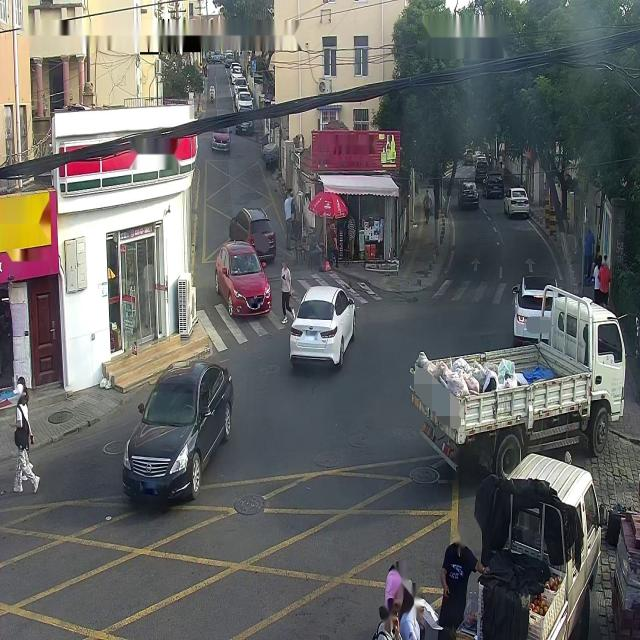car: (408, 284, 626, 478), (453, 447, 609, 635)
fixed_stall: (474, 544, 568, 637)
sunshade: (318, 174, 399, 197), (307, 190, 348, 218)
